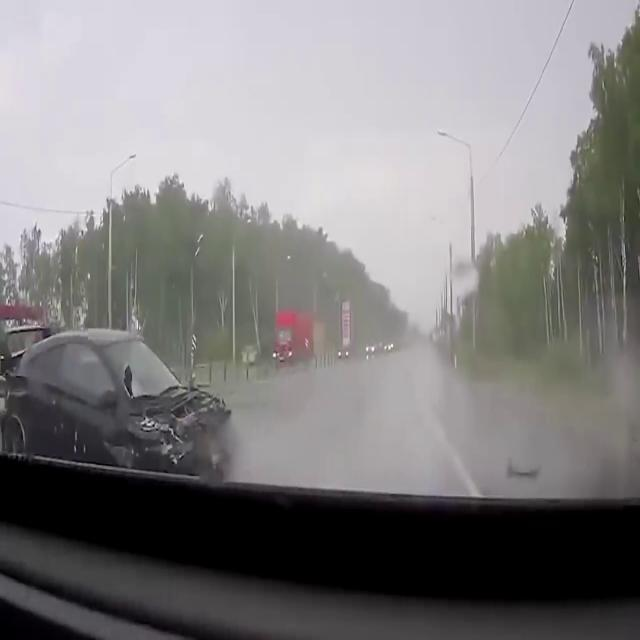multiple_accident: (0, 292, 255, 508)
